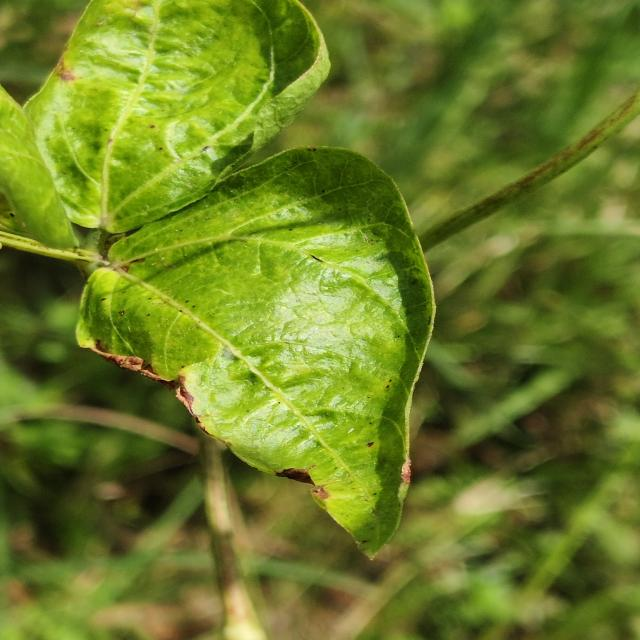sitaw-aphid-high: (77, 148, 435, 557), (24, 0, 330, 233)
